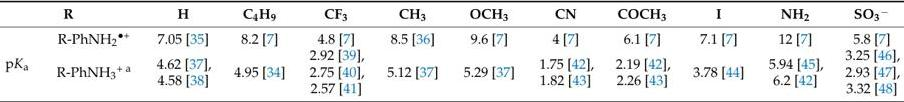table: (4, 4, 899, 96)
table column: (41, 4, 143, 96), (143, 4, 222, 96), (296, 4, 375, 96), (526, 4, 604, 96), (755, 4, 833, 96), (604, 4, 681, 96), (450, 4, 526, 96), (375, 4, 450, 96), (222, 4, 296, 96), (681, 4, 755, 96), (833, 4, 899, 96), (4, 4, 41, 96)
table column header: (4, 4, 899, 96)
table row: (4, 25, 899, 96), (4, 4, 899, 25)
table spanning cell: (143, 4, 222, 96), (296, 4, 375, 96), (526, 4, 604, 96), (755, 4, 833, 96), (604, 4, 681, 96), (450, 4, 526, 96), (375, 4, 450, 96), (222, 4, 296, 96), (681, 4, 755, 96), (833, 4, 899, 96), (4, 4, 143, 25)
